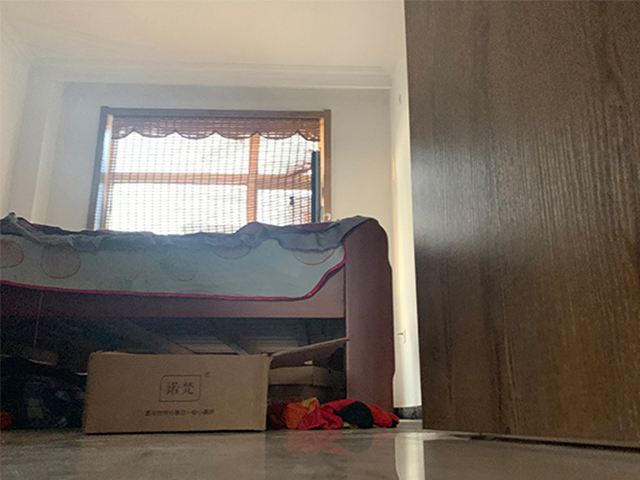bed: (1, 212, 396, 427)
socks: (269, 396, 401, 431)
